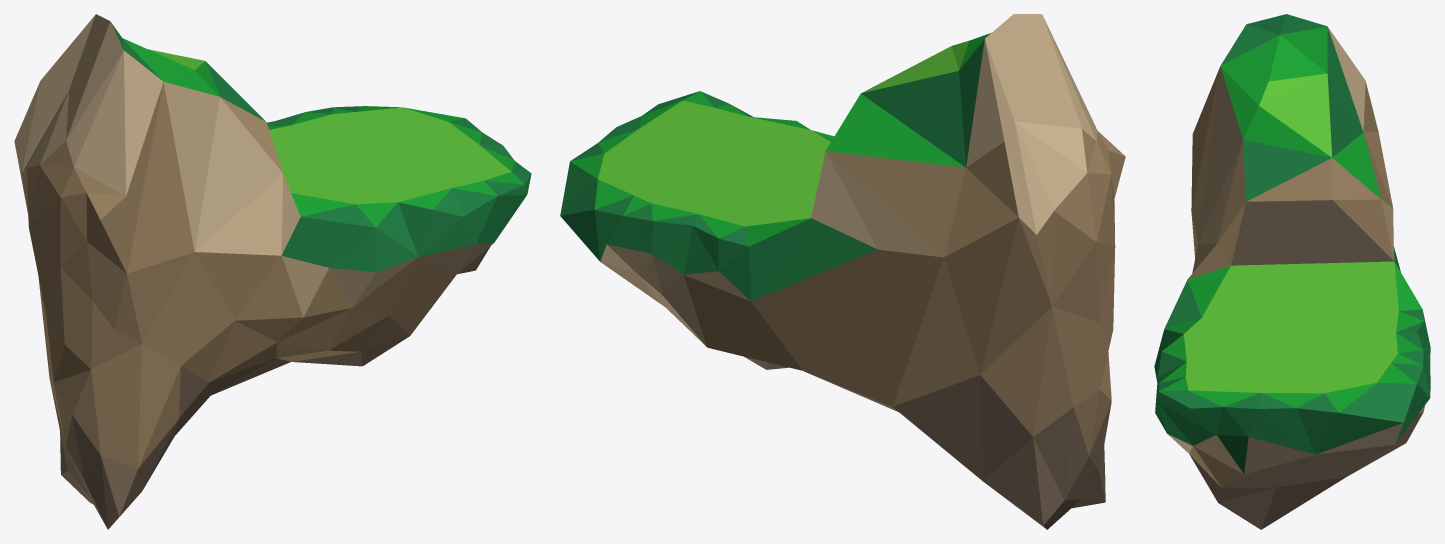
Rendered from Huge island.fbx.
The picture shows the model from 3 angles, left to right: view 1: azimuth 30°, elevation 25°; view 2: azimuth 150°, elevation 25°; view 3: azimuth 270°, elevation 25°; orthographic projection. The views are drawn at different scales.
Parts seen in each view (by area): view 1: Cube.001; view 2: Cube.001; view 3: Cube.001.
Part boxes in pixels (box(x1,y1,x2,y2)): Cube.001: box(14, 14, 531, 529); Cube.001: box(560, 14, 1125, 529); Cube.001: box(1154, 14, 1430, 529).
Bounding box in the file's own units: 9697 × 9494 × 4996.
